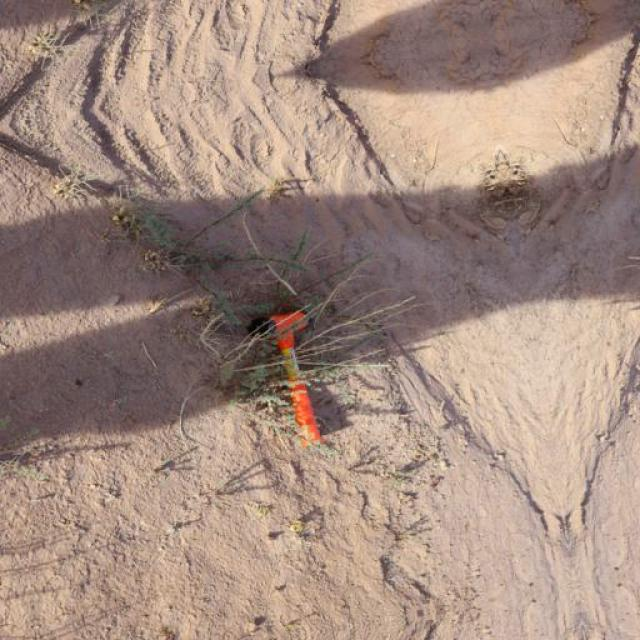mallet: (248, 306, 326, 449)
